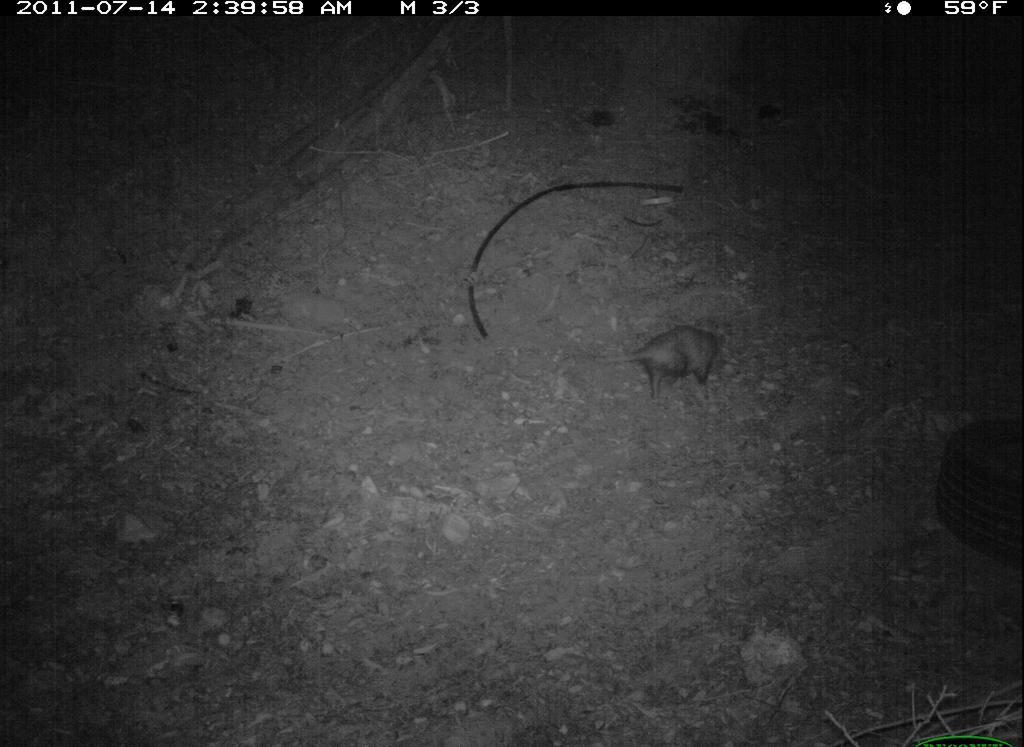opossum: (606, 315, 748, 399)
